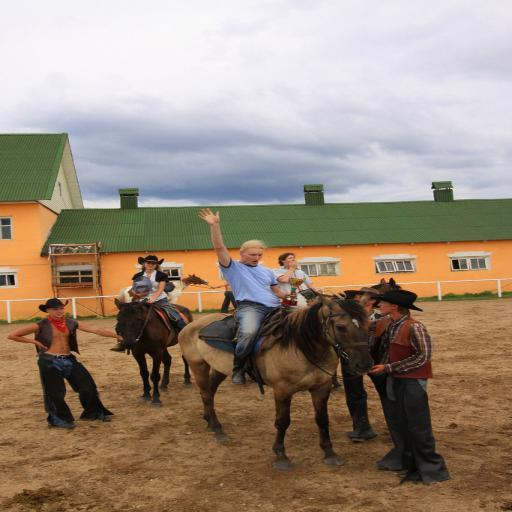horse: (174, 292, 374, 472), (113, 298, 193, 408)
